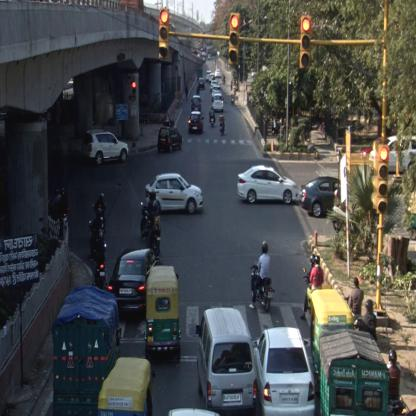car: (193, 307, 257, 415), (253, 326, 313, 415), (110, 248, 162, 314), (146, 171, 204, 217), (236, 164, 298, 204), (83, 128, 129, 164), (299, 177, 341, 214), (158, 128, 184, 152), (187, 110, 203, 134), (211, 94, 225, 113), (190, 96, 200, 112), (198, 78, 206, 89), (214, 70, 220, 78)
motorcycle: (248, 242, 274, 314), (384, 344, 404, 416), (301, 258, 322, 320), (92, 236, 106, 290), (146, 208, 160, 254), (219, 110, 226, 138), (207, 104, 215, 128)
truck: (51, 287, 120, 415), (318, 328, 388, 415)
